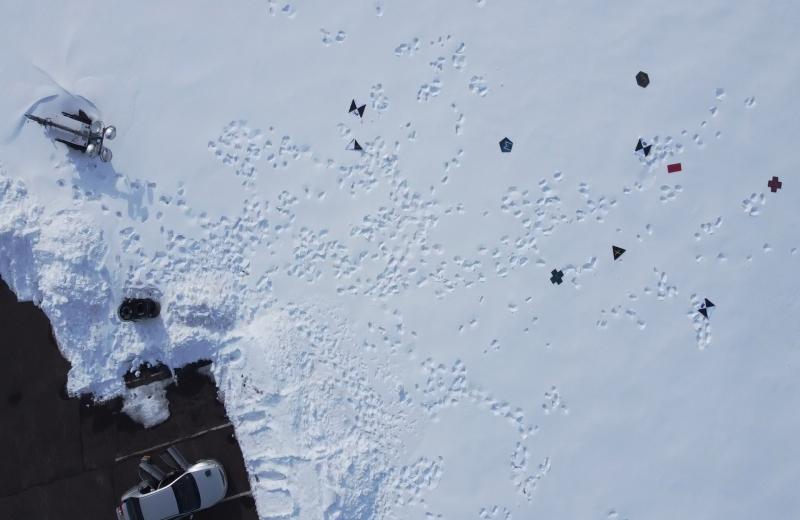Cross: (549, 268, 566, 286), (767, 176, 783, 194)
Hexagon: (634, 70, 650, 89)
Pentagon: (497, 135, 515, 155)
Rectangle: (666, 161, 682, 175)
Triangle: (610, 242, 626, 263)
